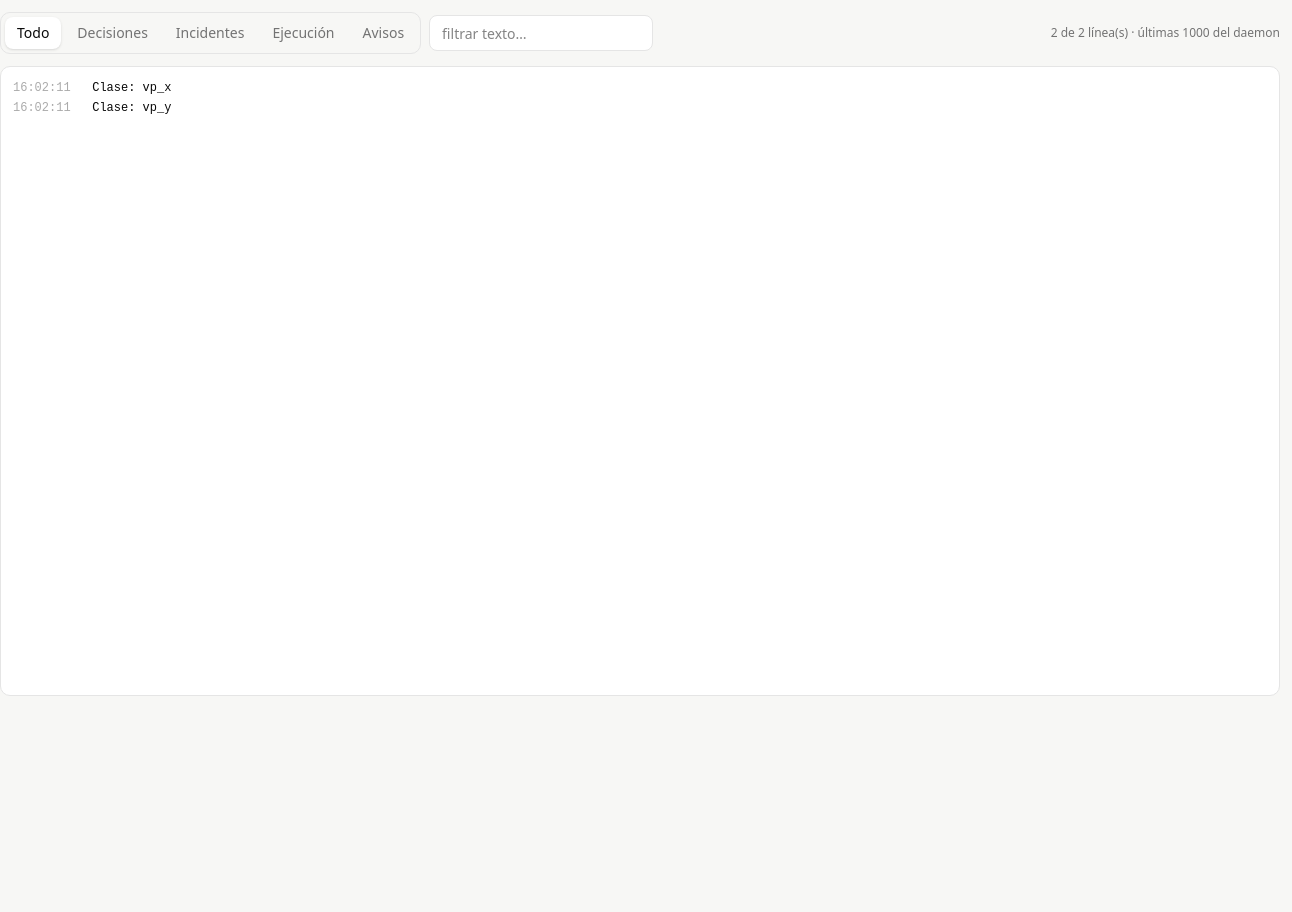
Test: Consola › la búsqueda de texto acota el feed
Expected: the text "16:02:11 Clase: vp_x" is shown, left=13, top=81, right=171, bottom=95
Type "vp_y" into the field with placeholder "filtrar texto…" at (541,33), box left=429, top=15, right=653, bottom=51
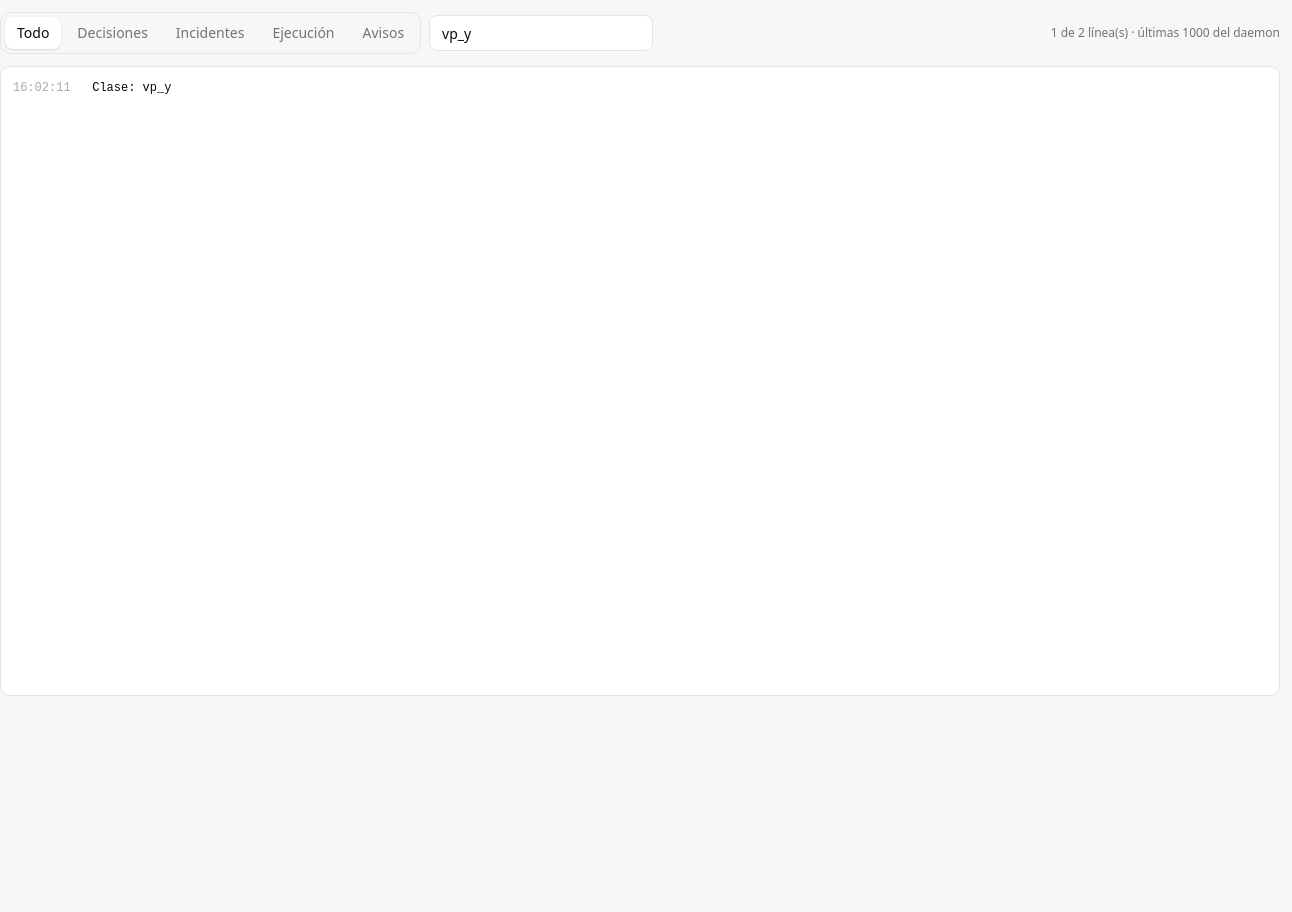
Expected: the text "16:02:11 Clase: vp_y" is shown, left=13, top=81, right=171, bottom=95
Expected: the text "vp_x" is gone
